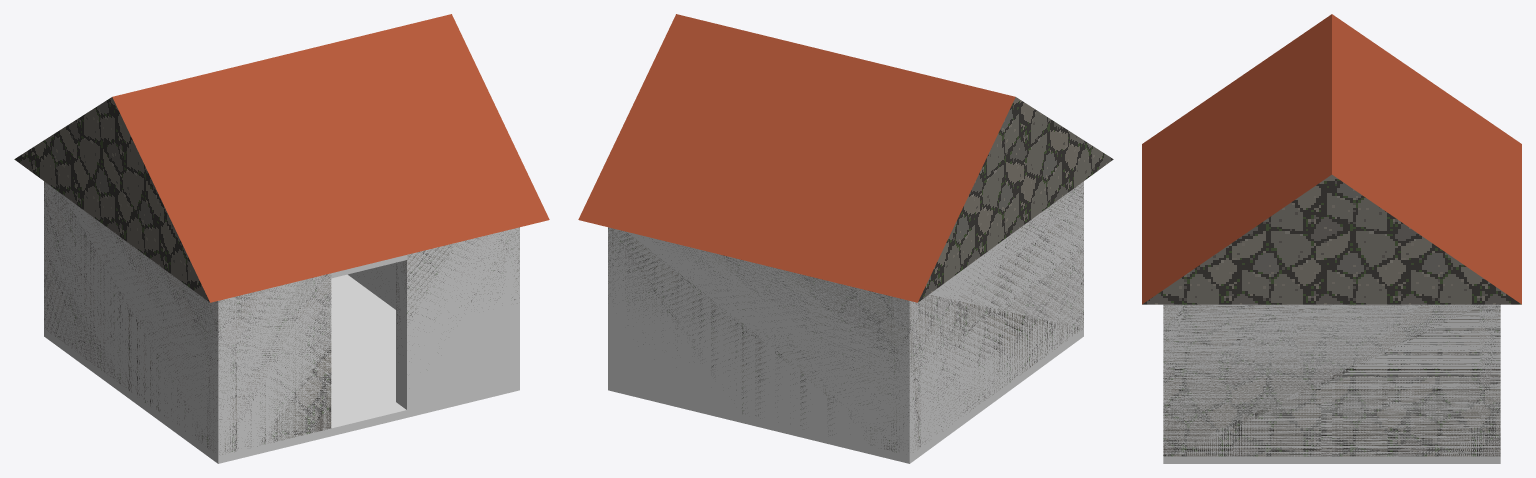
The model's file is house_v2.glb.
3 renders of one model, left to right at view 1: azimuth 30°, elevation 25°; view 2: azimuth 150°, elevation 25°; view 3: azimuth 270°, elevation 25°, orthographic. The views are drawn at different scales.
Parts seen in each view (by area): view 1: roof, col_wall_west, col_wall_south_w, col_wall_south_e, col_floor, wall_south_w, wall_west, col_wall_east, col_wall_north, wall_south_e; view 2: roof, col_wall_north, col_wall_west, wall_west, wall_north, col_wall_east, col_floor, col_wall_south_w; view 3: roof, col_wall_east, wall_east, col_floor, col_wall_south_e, col_wall_north, wall_south_e, wall_north.
Boxes of the visible parts, <box> form: roof: <box>14,14,549,302</box>; col_wall_west: <box>44,182,236,462</box>; col_wall_south_w: <box>207,273,331,463</box>; col_wall_south_e: <box>396,228,519,417</box>; col_floor: <box>44,274,518,463</box>; wall_south_w: <box>207,274,331,454</box>; wall_west: <box>44,183,236,452</box>; col_wall_east: <box>348,227,519,394</box>; col_wall_north: <box>44,181,54,341</box>; wall_south_e: <box>396,232,516,348</box>; roof: <box>578,14,1113,302</box>; col_wall_north: <box>608,227,920,463</box>; col_wall_west: <box>891,182,1083,463</box>; wall_west: <box>891,184,1083,451</box>; wall_north: <box>608,228,920,452</box>; col_wall_east: <box>608,227,626,394</box>; col_floor: <box>608,329,1083,463</box>; col_wall_south_w: <box>1073,181,1083,337</box>; roof: <box>1142,14,1521,304</box>; col_wall_east: <box>1163,304,1500,463</box>; wall_east: <box>1163,304,1500,456</box>; col_floor: <box>1163,456,1500,463</box>; col_wall_south_e: <box>1163,305,1184,463</box>; col_wall_north: <box>1479,304,1500,463</box>; wall_south_e: <box>1163,306,1184,456</box>; wall_north: <box>1479,305,1500,456</box>.
Size of the model in its own units: 4.5 by 3.9 by 4.5.
Materials: 4 (3 with a texture image).
